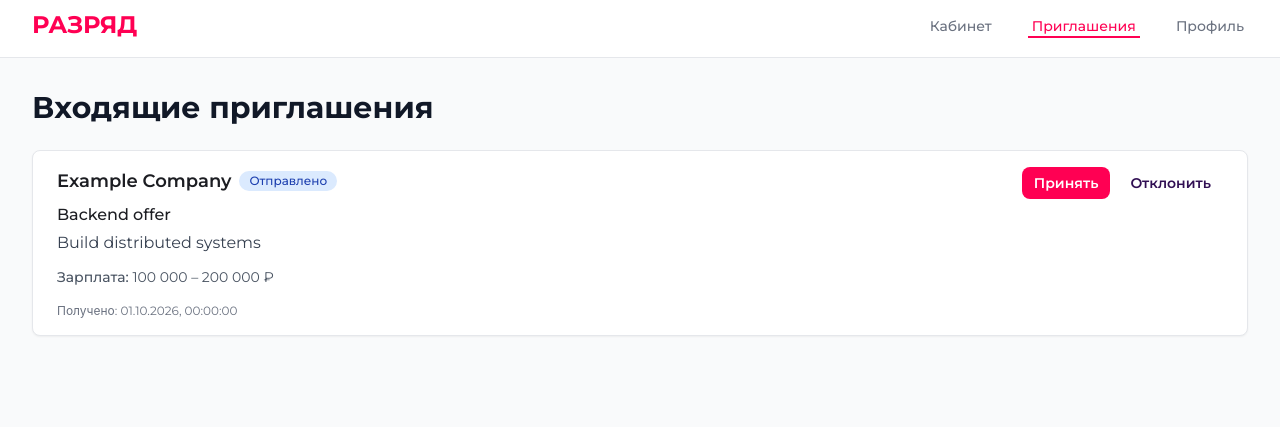
Test: candidate invitations › can accept sent and reads subject/message
Expected: the text "Backend offer" is shown, top-left (57, 205), bottom-right (171, 224)
Expected: the text "Build distributed systems" is shown, top-left (57, 233), bottom-right (261, 252)
Click the button "Принять". click: coordinates (1066, 183)
box: top-left (1022, 167), bottom-right (1110, 199)
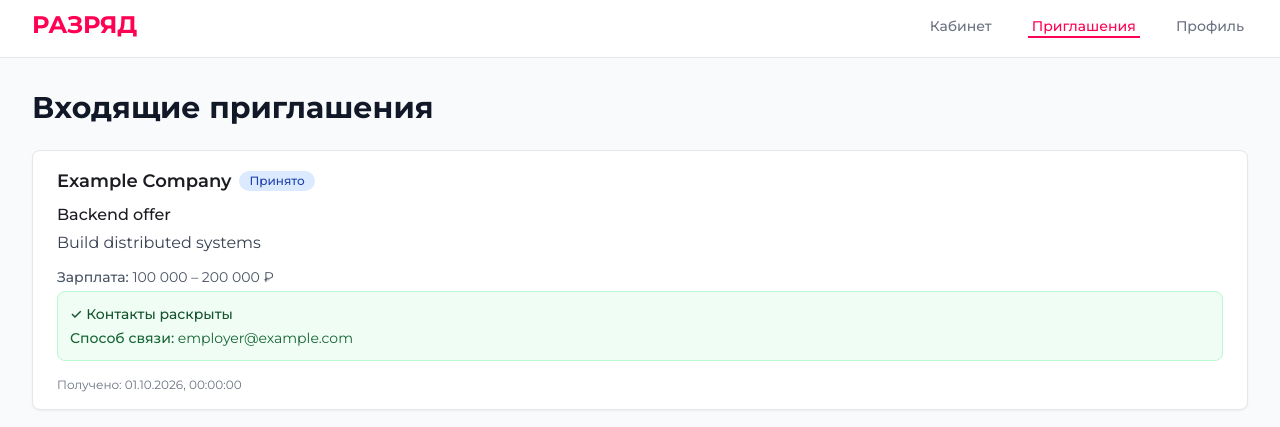
Expected: the button "Принять" is gone
